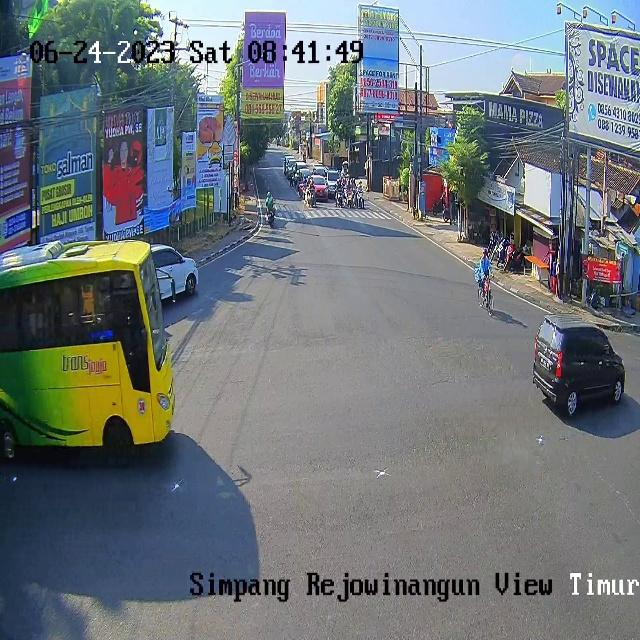bus: (265, 209, 276, 228), (308, 188, 316, 207), (337, 187, 343, 208), (346, 189, 352, 208), (358, 189, 364, 207)
car: (0, 240, 174, 467)
motorcycle: (533, 314, 625, 418), (153, 246, 198, 304), (310, 174, 329, 202), (326, 171, 341, 194)
